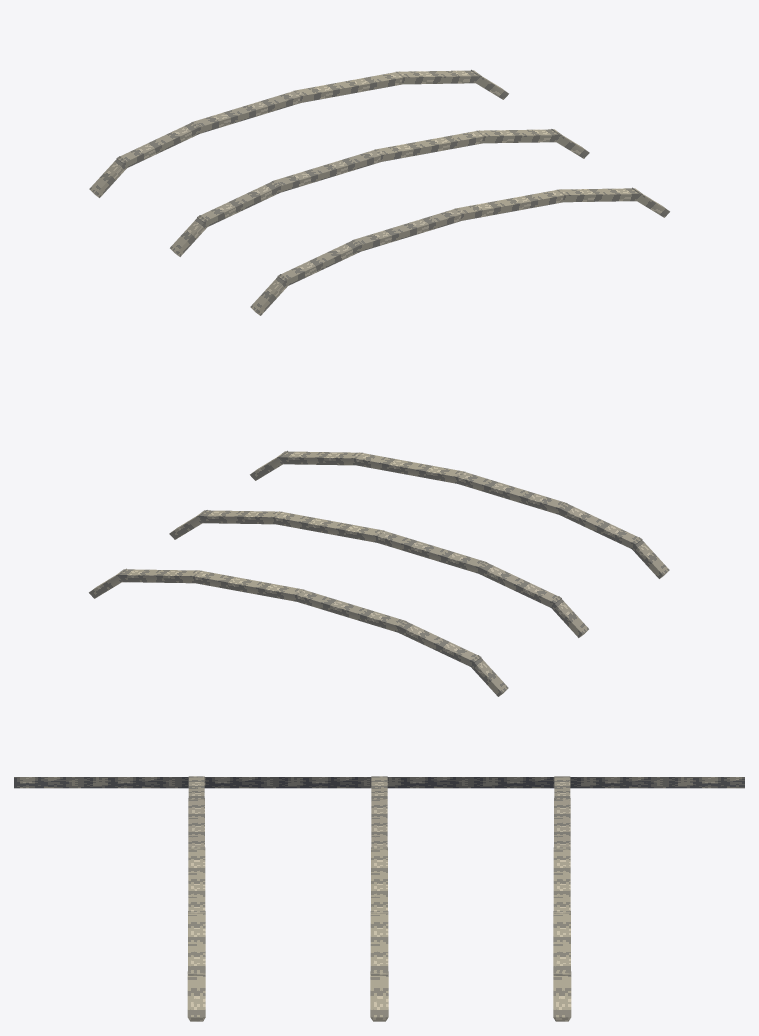
The model's file is cst.ceiling__vault.glb.
The picture shows the model from 3 angles, top to bottom: view 1: azimuth 30°, elevation 25°; view 2: azimuth 150°, elevation 25°; view 3: azimuth 270°, elevation 25°; orthographic projection. The views are drawn at different scales.
Parts seen in each view (by area): view 1: kit_ribs; view 2: kit_ribs; view 3: kit_ribs, kit_shell_ceiling.
Part boxes in pixels (x1,y1,x2,y2): kit_ribs: [89, 69, 669, 315]; kit_ribs: [89, 450, 669, 696]; kit_ribs: [187, 776, 571, 1021]; kit_shell_ceiling: [14, 777, 744, 788].
Bounding box in the file's own units: 11.1 × 1.39 × 15.
2 materials, 2 textured.
